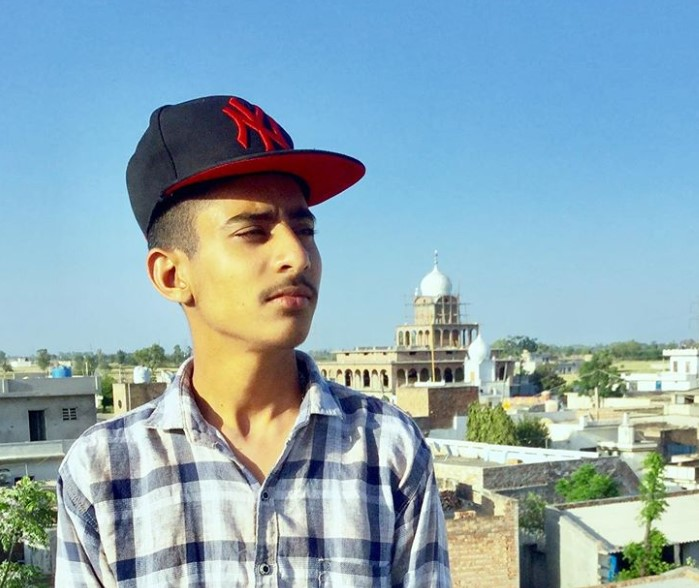face_no_mask: (154, 138, 327, 351)
